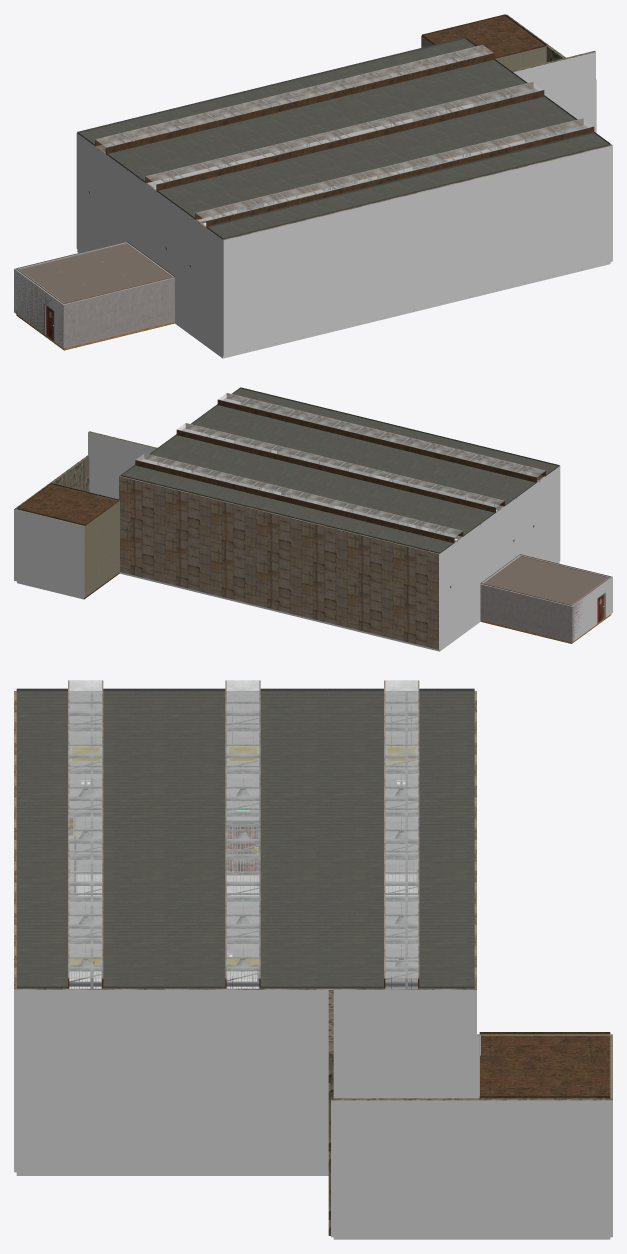
3 renders of one model, top to bottom at view 1: azimuth 30°, elevation 25°; view 2: azimuth 150°, elevation 25°; view 3: azimuth 270°, elevation 25°, orthographic. The views are drawn at different scales.
Visible parts, largest first — view 1: COL, S_corrugated, S_concrete_smooth, S_glass_dusty, S_plaster, S_ceiling, S_steel_dark, S_concrete_panels, S_concrete_wall, S_plaster_worn; view 2: S_concrete_panels, S_corrugated, COL, S_concrete_smooth, S_glass_dusty, S_plaster, S_ceiling, S_concrete_wall, S_steel_dark, S_plaster_worn; view 3: COL, S_corrugated, S_glass_dusty, S_steel_dark, S_concrete_smooth, S_concrete_panels, S_plaster_worn, S_paint_yellow, E_fx_rasvjeta.
Boxes of the visible parts, x1,y1,x2,y2 form: COL: [14, 52, 612, 358]; S_corrugated: [77, 37, 610, 239]; S_concrete_smooth: [95, 14, 594, 227]; S_glass_dusty: [95, 45, 593, 220]; S_plaster: [14, 242, 174, 348]; S_ceiling: [16, 241, 174, 303]; S_steel_dark: [44, 52, 585, 341]; S_concrete_panels: [95, 51, 612, 240]; S_concrete_wall: [421, 35, 546, 70]; S_plaster_worn: [506, 14, 595, 97]; S_concrete_panels: [119, 398, 545, 649]; S_corrugated: [120, 387, 559, 553]; COL: [14, 399, 612, 651]; S_concrete_smooth: [17, 393, 545, 599]; S_glass_dusty: [136, 393, 545, 537]; S_plaster: [480, 555, 612, 642]; S_ceiling: [480, 554, 611, 605]; S_concrete_wall: [16, 484, 119, 597]; S_steel_dark: [158, 399, 605, 623]; S_plaster_worn: [14, 431, 158, 509]; COL: [14, 692, 612, 1239]; S_corrugated: [16, 688, 474, 988]; S_glass_dusty: [68, 680, 419, 978]; S_steel_dark: [69, 693, 417, 988]; S_concrete_smooth: [68, 681, 610, 1098]; S_concrete_panels: [14, 691, 476, 989]; S_plaster_worn: [328, 990, 612, 1235]; S_paint_yellow: [69, 746, 414, 964]; E_fx_rasvjeta: [79, 779, 408, 971].
Size of what is drawn, in the model's own units: 42.32 by 8.67 by 23.8.
86 materials, 40 textured.
